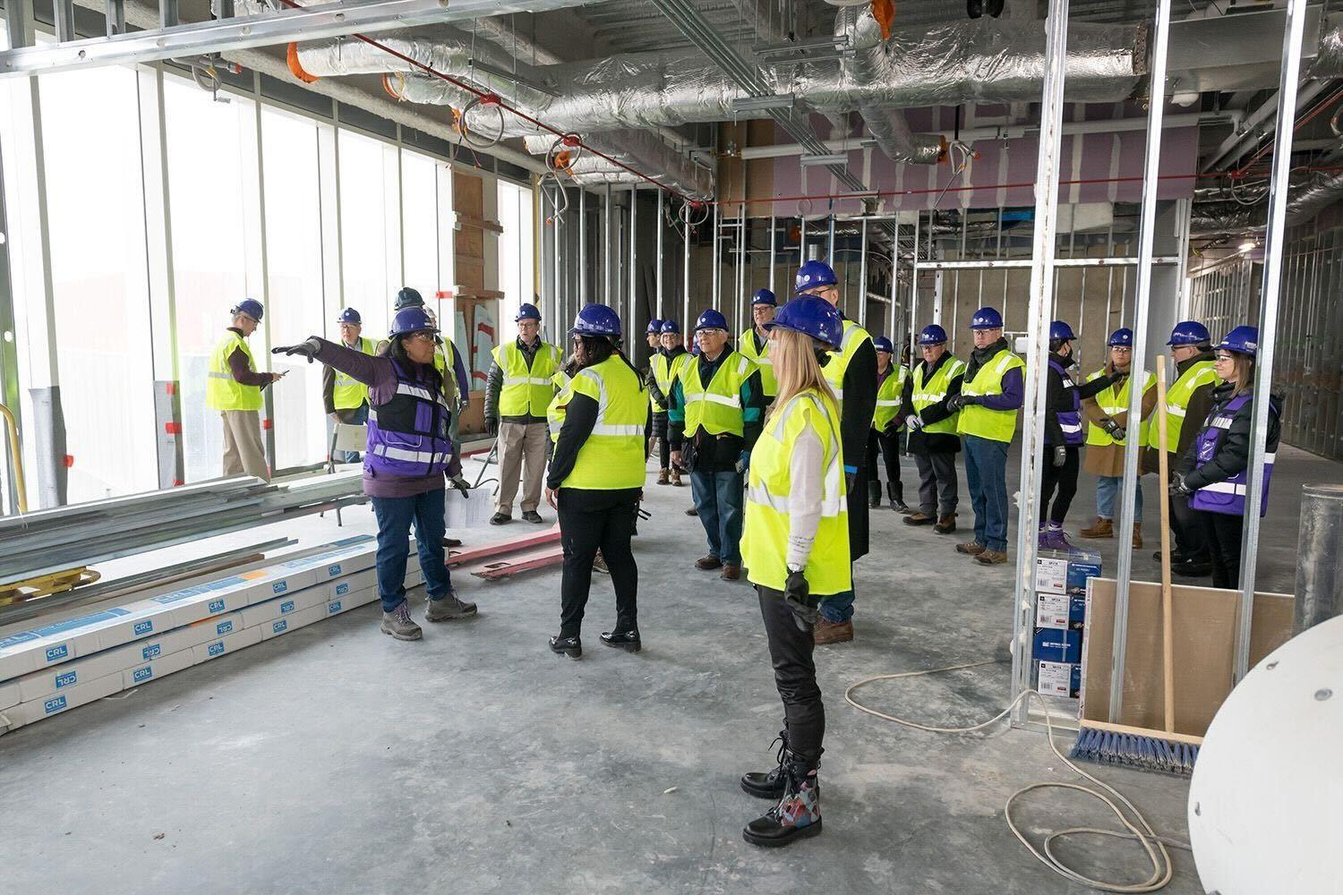Helmet: (761, 294, 844, 354), (566, 302, 623, 336), (387, 307, 442, 338), (792, 259, 840, 293), (1210, 324, 1258, 357), (1165, 321, 1211, 344), (691, 308, 730, 333), (967, 306, 1004, 329), (234, 298, 265, 324), (393, 286, 424, 311), (916, 324, 948, 345), (1050, 320, 1078, 341), (749, 289, 780, 307), (513, 303, 542, 322), (1107, 327, 1133, 347), (872, 335, 896, 355), (335, 307, 362, 324), (644, 318, 663, 334), (660, 319, 680, 334), (423, 304, 436, 318), (905, 332, 919, 340), (692, 333, 699, 347)
Person: (725, 290, 852, 865), (302, 308, 507, 641), (549, 271, 646, 690), (794, 259, 879, 644), (1166, 324, 1282, 590), (688, 307, 766, 582), (1038, 320, 1125, 556), (946, 306, 1025, 563), (1153, 320, 1223, 576), (482, 301, 562, 525), (1081, 327, 1157, 550), (207, 298, 286, 484), (901, 324, 966, 535), (371, 284, 460, 410), (647, 318, 695, 488), (424, 303, 470, 461), (734, 287, 780, 418), (643, 318, 674, 472), (901, 331, 924, 366)
Safety Boot: (747, 805, 830, 849), (419, 575, 478, 624), (736, 756, 794, 803), (360, 600, 422, 638), (955, 532, 1008, 561), (602, 625, 635, 657), (554, 632, 585, 664), (1087, 518, 1115, 545), (906, 507, 935, 532)
Safety Vest: (747, 396, 851, 601), (561, 366, 647, 501), (677, 351, 753, 435), (489, 342, 552, 429), (1198, 412, 1251, 515), (1089, 369, 1149, 452), (1148, 371, 1201, 446), (215, 337, 258, 418), (964, 366, 1009, 441), (906, 360, 949, 433), (1048, 367, 1081, 445), (881, 376, 899, 422)
